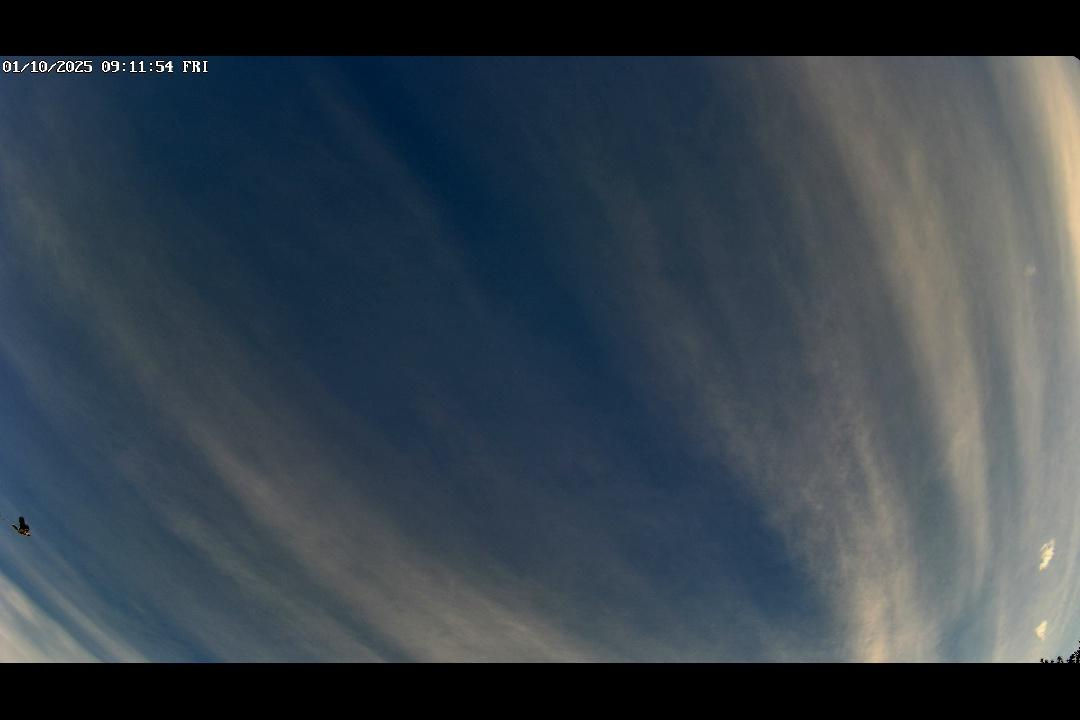WildLife: (0, 505, 50, 547)
